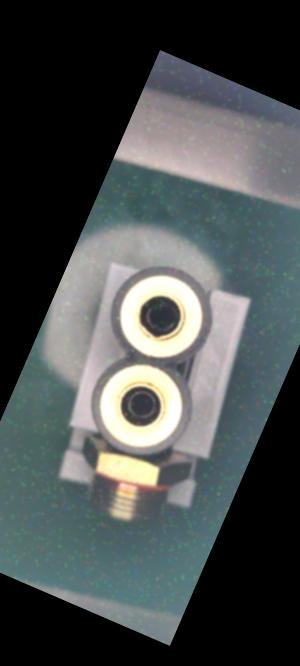bump: (140, 328, 165, 347)
off-centered: (137, 292, 184, 334)
